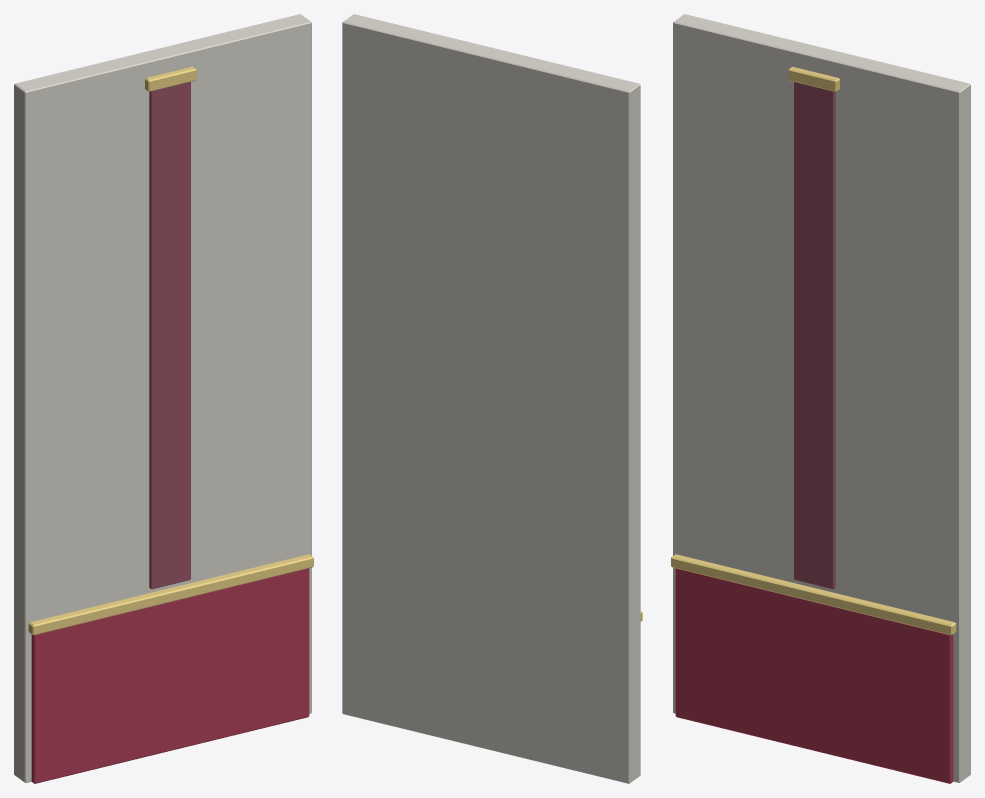
File: theatre-stage-and-backstage-house-wall-module-0ed307a4__35899.glb
The picture shows the model from 3 angles, left to right: view 1: azimuth 30°, elevation 25°; view 2: azimuth 150°, elevation 25°; view 3: azimuth 330°, elevation 25°; orthographic projection.
Parts seen in each view (by area): view 1: house-wall-module; view 2: house-wall-module; view 3: house-wall-module.
Boxes of the visible parts, x1=… form: house-wall-module: x1=14, y1=14, x2=313, y2=783; house-wall-module: x1=342, y1=14, x2=642, y2=783; house-wall-module: x1=671, y1=14, x2=970, y2=783.
Size of the model in its own units: 2 by 4.6 by 0.1998.
